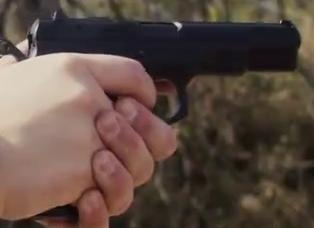gun: (1, 1, 314, 228)
